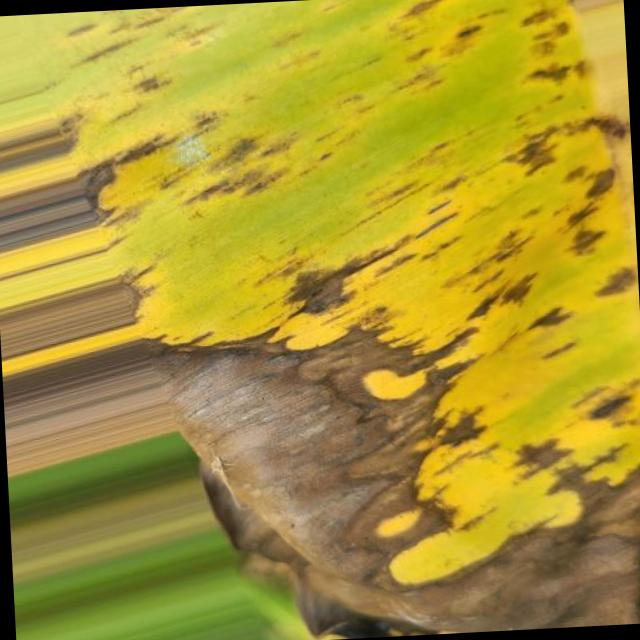Banana_Black_Sigatoka: (159, 270, 640, 640), (53, 12, 372, 258), (476, 0, 640, 324)
